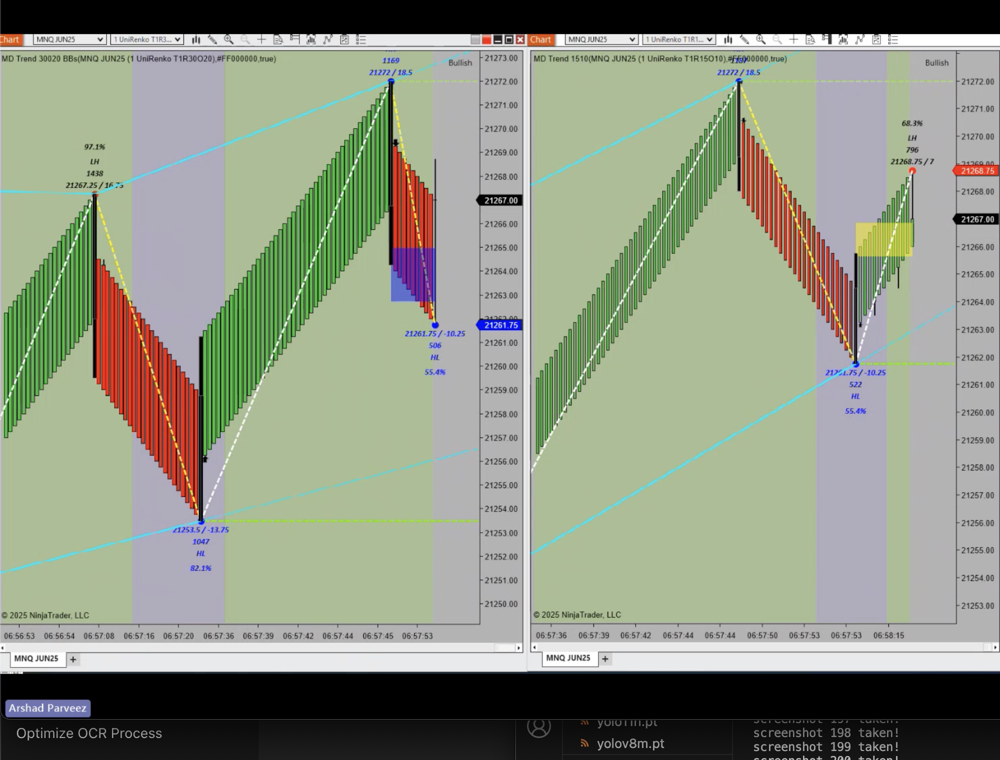HL: (423, 345, 447, 367), (846, 387, 870, 407), (190, 546, 214, 564)
LH: (82, 153, 109, 172), (900, 131, 928, 145)
